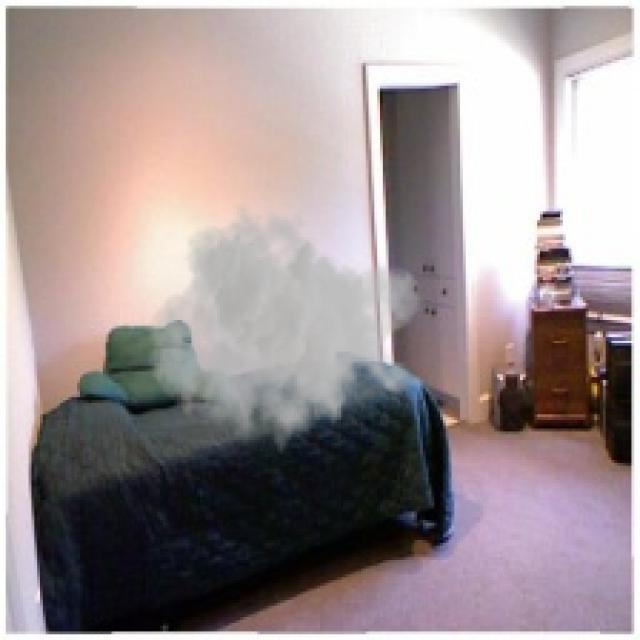Smoke: (148, 203, 423, 466)
